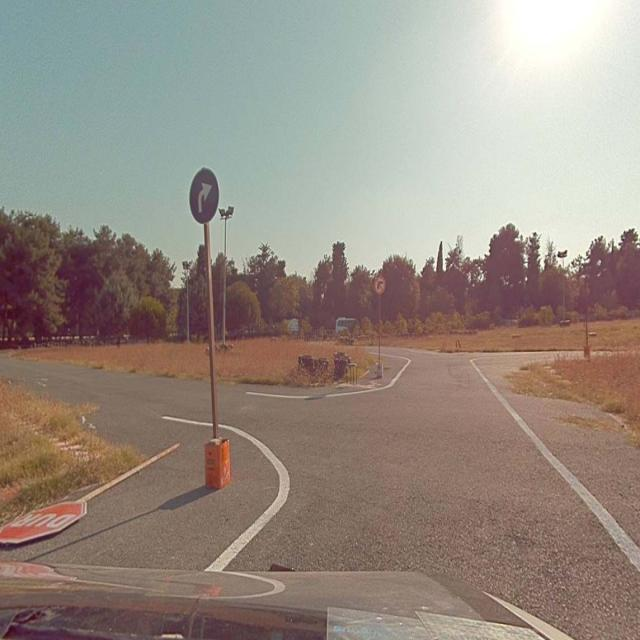sag: (188, 168, 220, 224)
sagadonulmez: (375, 276, 385, 295)
